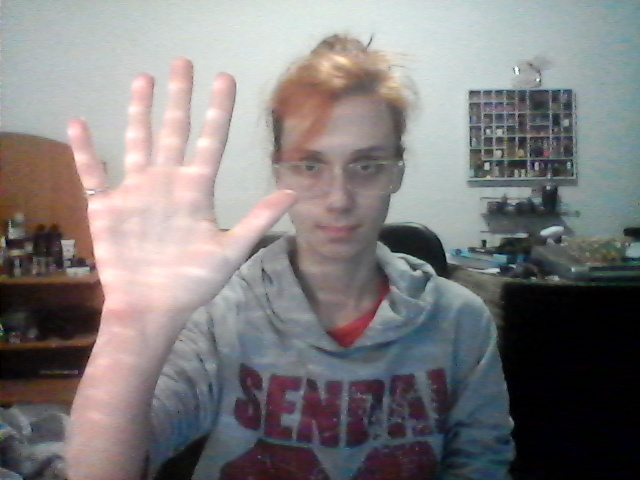ahoj: (60, 47, 299, 319)
